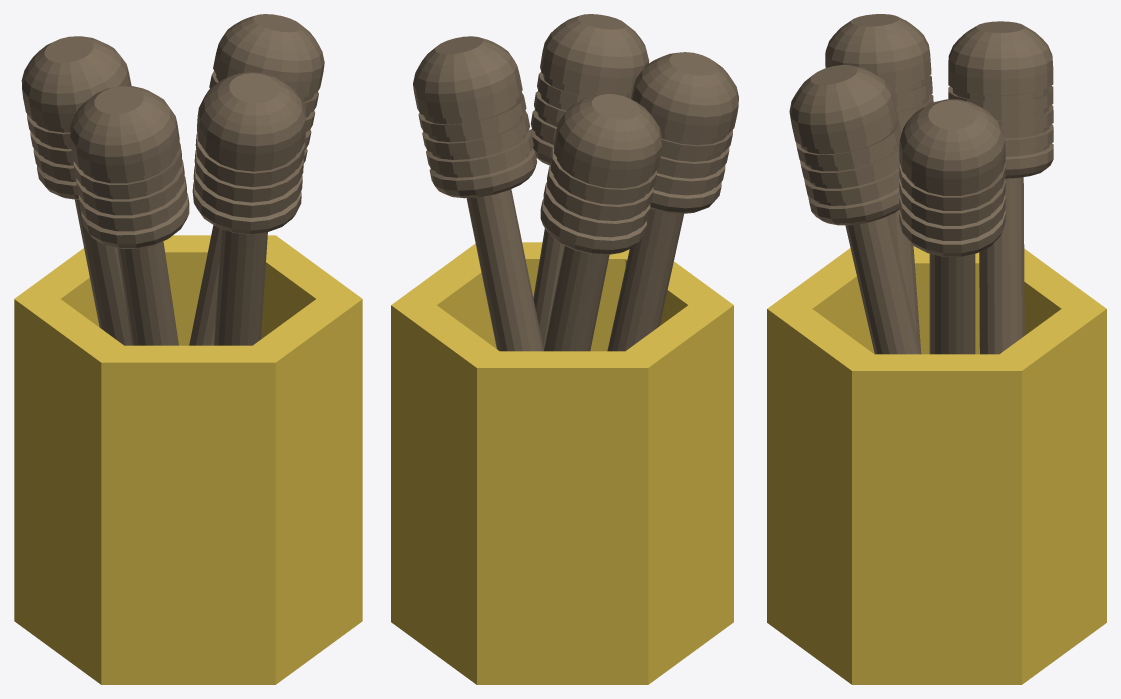
The model's file is CupWithSpoons.fbx.
3 views of the same model, side by side, from view 1: azimuth 30°, elevation 25°; view 2: azimuth 150°, elevation 25°; view 3: azimuth 270°, elevation 25° (orthographic). The views are drawn at different scales.
Parts seen in each view (by area): view 1: Cylinder.027, Cylinder.029, Cylinder.030, Cylinder.031, Cylinder.028; view 2: Cylinder.027, Cylinder.028, Cylinder.031, Cylinder.030, Cylinder.029; view 3: Cylinder.027, Cylinder.029, Cylinder.028, Cylinder.031, Cylinder.030.
Boxes of the visible parts, x1,y1,x2,y2 form: Cylinder.027: (14,235,362,684); Cylinder.029: (192,72,306,345); Cylinder.030: (70,86,189,345); Cylinder.031: (21,36,131,345); Cylinder.028: (189,14,324,345); Cylinder.027: (391,242,733,684); Cylinder.028: (413,36,543,351); Cylinder.031: (540,94,661,351); Cylinder.030: (607,52,738,351); Cylinder.029: (530,14,649,349); Cylinder.027: (767,246,1106,684); Cylinder.029: (789,65,920,354); Cylinder.028: (899,99,1005,354); Cylinder.031: (948,21,1053,354); Cylinder.030: (825,14,933,353).
Size of the model in its own units: 9.59 by 18.87 by 10.4.
